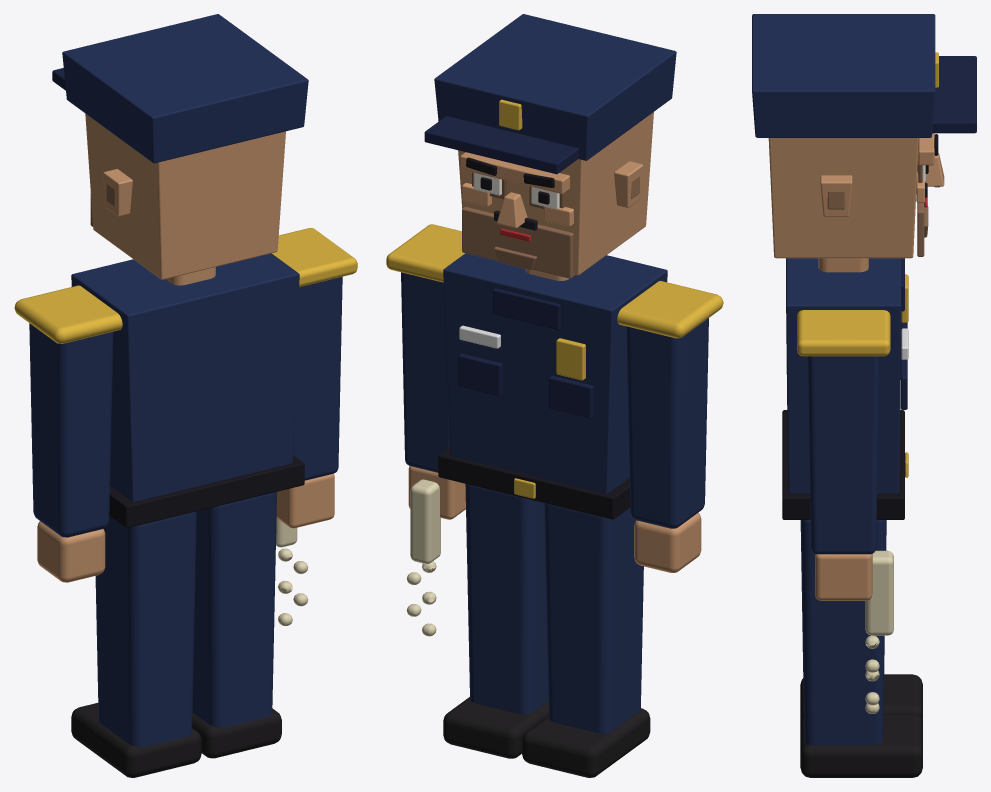
The model's file is guard.glb.
3 renders of one model, left to right at view 1: azimuth 30°, elevation 25°; view 2: azimuth 150°, elevation 25°; view 3: azimuth 270°, elevation 25°, orthographic. The views are drawn at different scales.
Visible parts, largest first — view 1: Head, Torso, LegL, ArmL, LegR, ArmR; view 2: Head, Torso, LegL, ArmL, LegR, ArmR; view 3: Head, ArmR, LegR, Torso, LegL, NeckMesh.
Part boxes in pixels (left/top/right/bottom): Head: left=52, top=14, right=308, bottom=279; Torso: left=71, top=253, right=304, bottom=528; LegL: left=71, top=511, right=201, bottom=777; ArmL: left=14, top=285, right=122, bottom=582; LegR: left=192, top=492, right=281, bottom=758; ArmR: left=272, top=228, right=357, bottom=625; Head: left=424, top=14, right=676, bottom=278; Torso: left=438, top=253, right=667, bottom=519; LegL: left=522, top=503, right=650, bottom=777; ArmL: left=617, top=281, right=723, bottom=572; LegR: left=443, top=483, right=548, bottom=758; ArmR: left=386, top=224, right=465, bottom=636; Head: left=752, top=14, right=976, bottom=258; ArmR: left=797, top=310, right=893, bottom=713; LegR: left=800, top=520, right=922, bottom=777; Torso: left=782, top=258, right=908, bottom=519; LegL: left=800, top=674, right=922, bottom=723; NeckMesh: left=818, top=258, right=868, bottom=272.
Bounding box in the file's own units: 0.98 × 2.12 × 0.6245.
